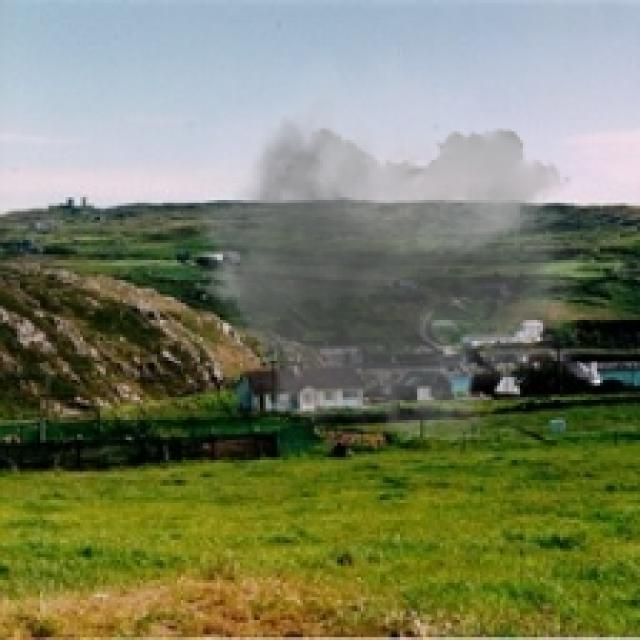smoke: (180, 43, 586, 463)
